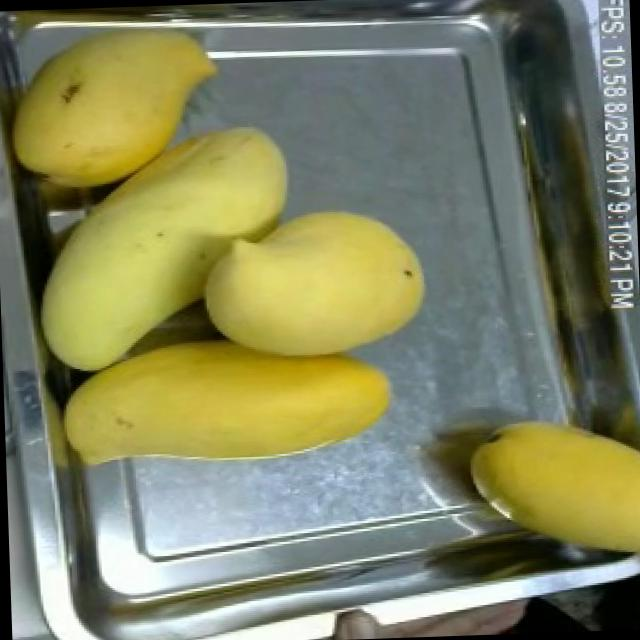fruit: (20, 103, 310, 394), (38, 309, 416, 510), (184, 186, 446, 450), (0, 9, 228, 207), (446, 392, 640, 595)
